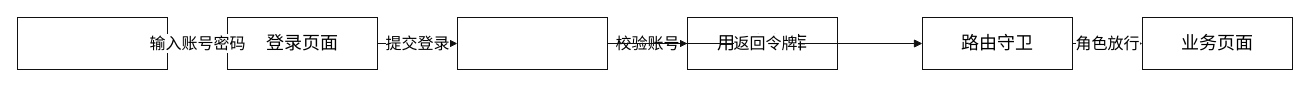
Some shapes in this 1310 by 87 pixel diagram are drawn without their labels. The centre of each missing label's shape, as x and y in pixels:
用户: the point at 92,43
认证接口: the point at 532,43
